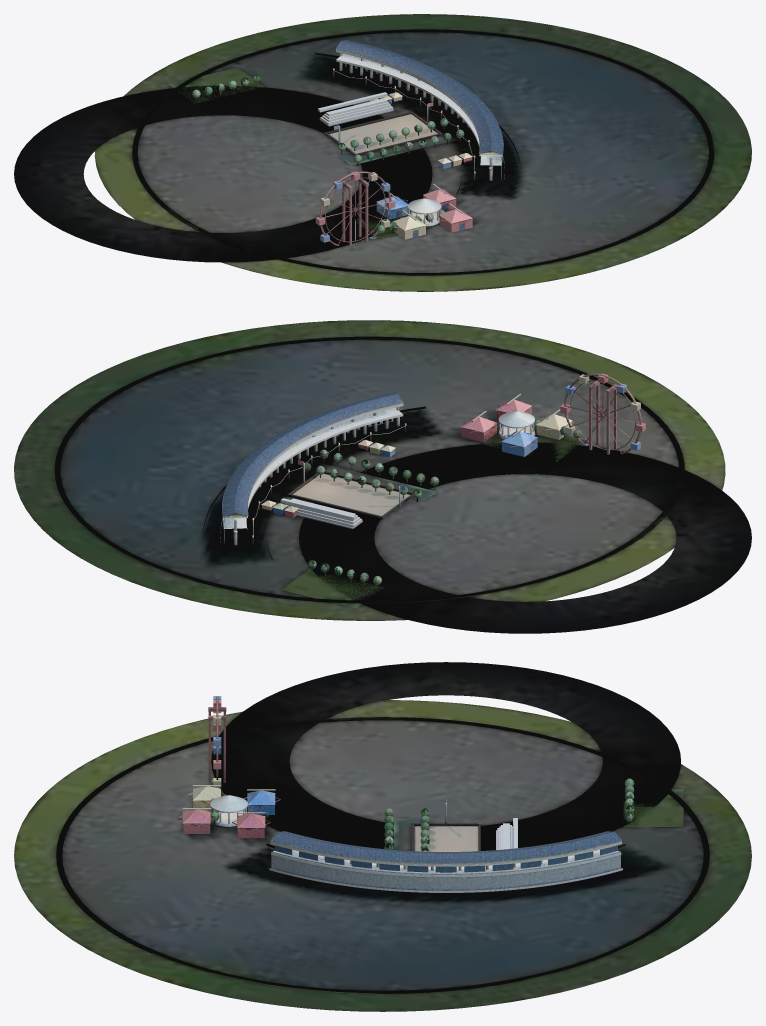
Rendered from contest_corridor_low.glb.
3 renders of one model, top to bottom at view 1: azimuth 30°, elevation 25°; view 2: azimuth 150°, elevation 25°; view 3: azimuth 270°, elevation 25°, orthographic. The views are drawn at different scales.
Parts seen in each view (by area): view 1: site_ground, props_gallery, props_fair, props_lists; view 2: site_ground, props_fair, props_gallery, props_lists; view 3: site_ground, props_gallery, props_fair, props_lists.
Part boxes in pixels (x1,y1,x2,y2): site_ground: (14, 14, 751, 291); props_gallery: (336, 40, 504, 180); props_fair: (315, 92, 472, 246); props_lists: (318, 92, 442, 156); site_ground: (14, 320, 751, 633); props_fair: (261, 373, 645, 517); props_gallery: (220, 393, 403, 545); props_lists: (280, 460, 413, 529); site_ground: (14, 662, 751, 1011); props_gallery: (269, 831, 622, 892); props_fair: (177, 696, 280, 838); props_lists: (411, 799, 517, 851).
Size of the model in its own units: 549 by 65.06 by 490.
5 materials, 5 textured.
